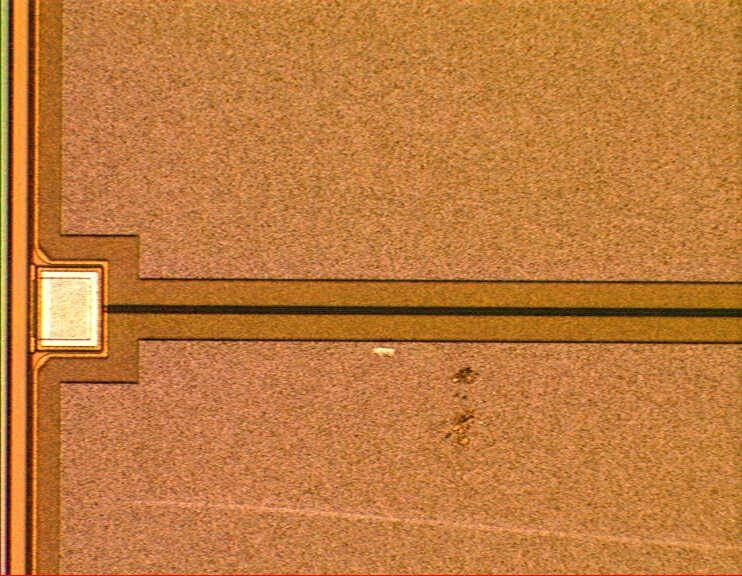SCRATCH: (79, 351, 742, 560)
